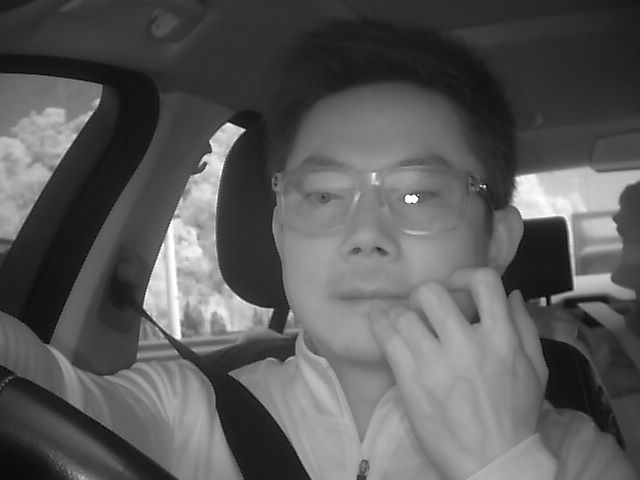hand: (372, 267, 546, 458)
